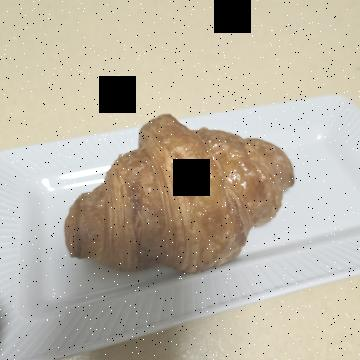croissant: (109, 61, 286, 312)
